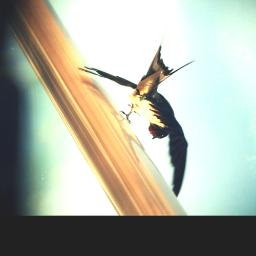Swallow: (77, 16, 199, 200)
